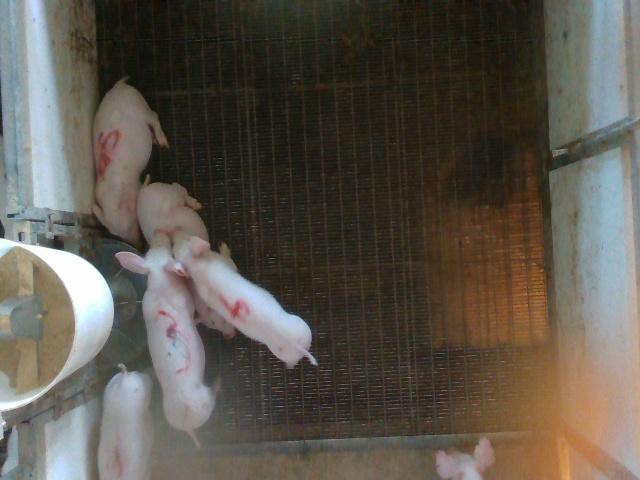pig-1: (98, 364, 154, 478)
pig-3: (118, 231, 215, 447)
pig-4: (174, 230, 318, 368)
pig-5: (92, 78, 169, 247)
